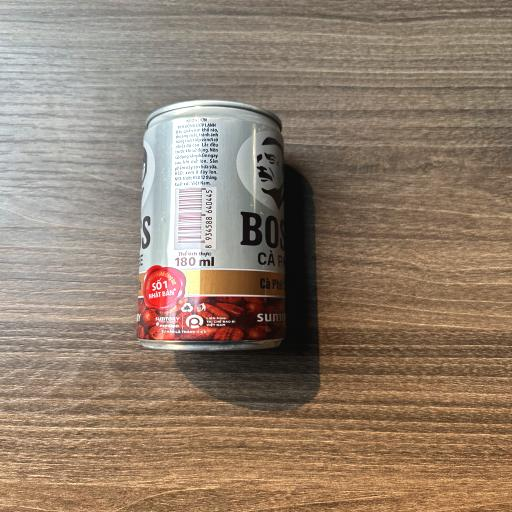boss_coffee: (126, 99, 300, 361)
